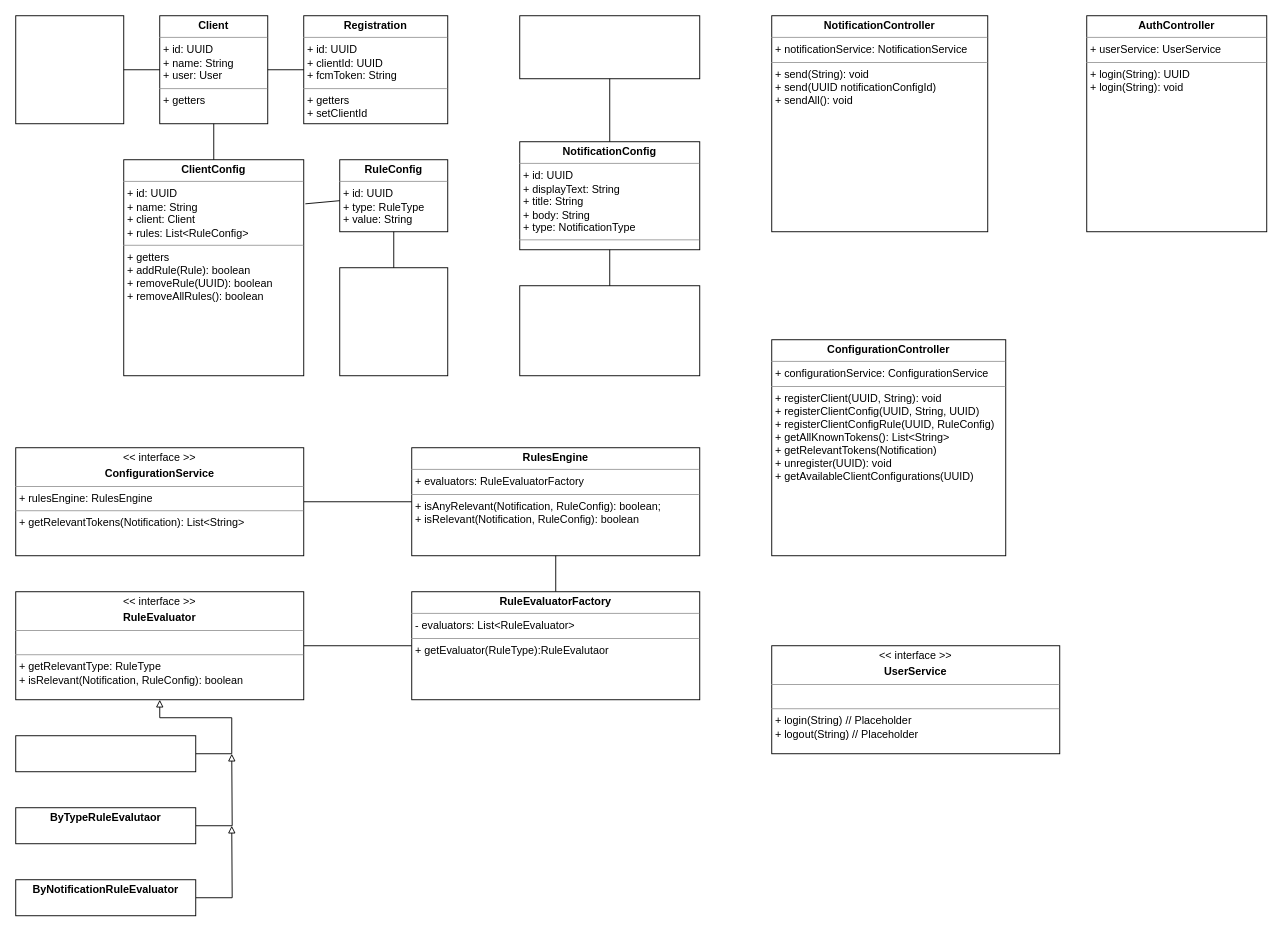
Some shapes in this 1283 by 932 pixel diagram are drawn without their labels. The box of each missing label's shape, as (x1, y1, x2, y2) in pixels:
<< enum >> RuleType + SENDER + TYPE + NOTIFICATION: (339, 267, 448, 376)
BySenderRuleEvaluator: (15, 735, 196, 772)
Notification + id: UUID + config: NotificationConfig + sender: UUID: (519, 285, 700, 376)
NotificationType + id: UUID + name: String: (519, 15, 700, 79)
User + id: UUID + name: String + getters: (15, 15, 124, 124)
